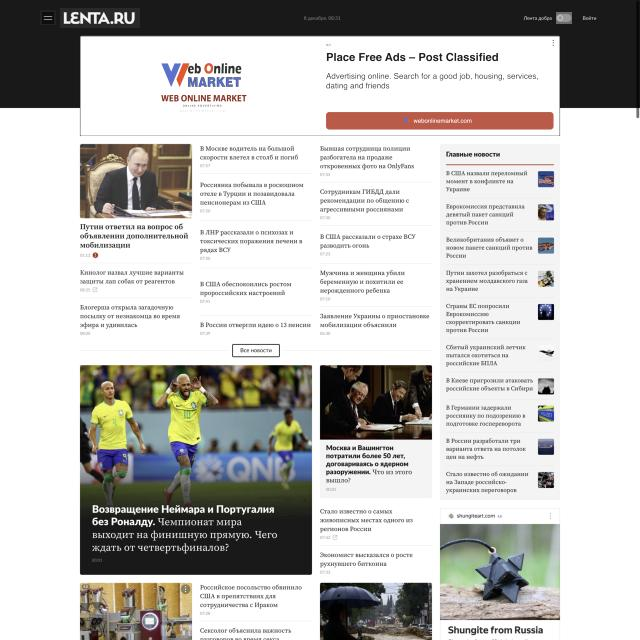CheckBox: (556, 12, 572, 24)
ImageView: (81, 35, 559, 137)
carousel: (42, 12, 54, 24)
copy: (80, 144, 192, 219)
date picker: (60, 8, 140, 28)
decoration: (40, 10, 56, 25)
